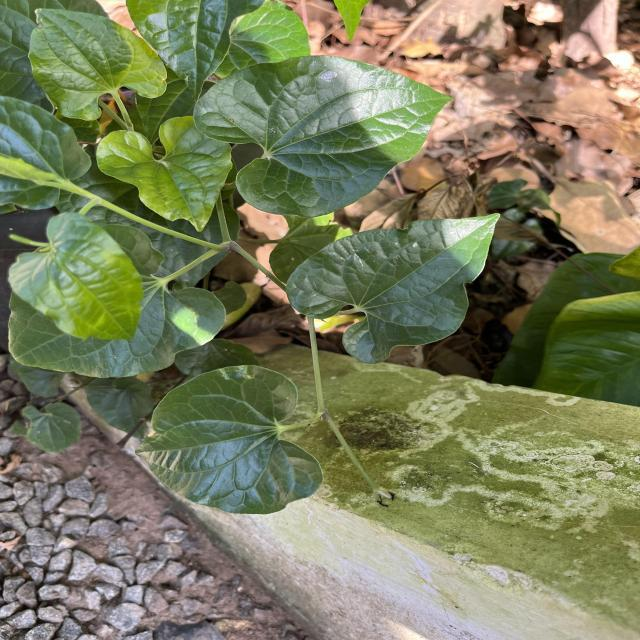Piper longum: (189, 53, 456, 221), (284, 210, 504, 366), (132, 362, 326, 517), (26, 5, 170, 124), (94, 114, 235, 234)
